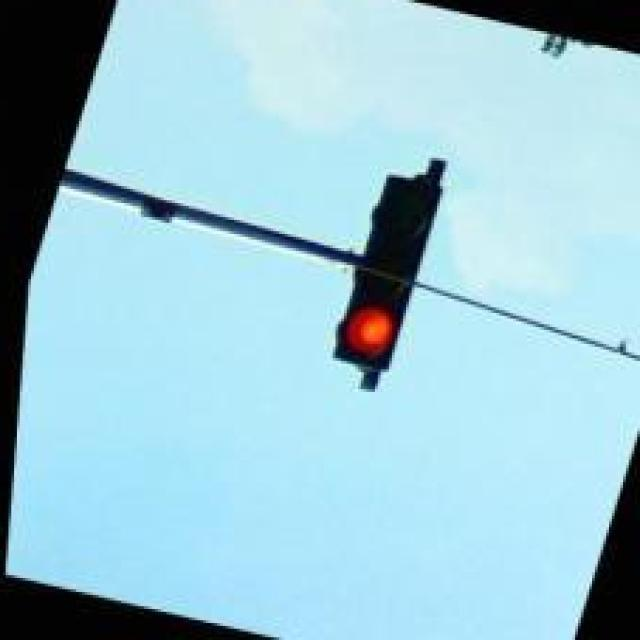red light: (318, 169, 442, 378)
